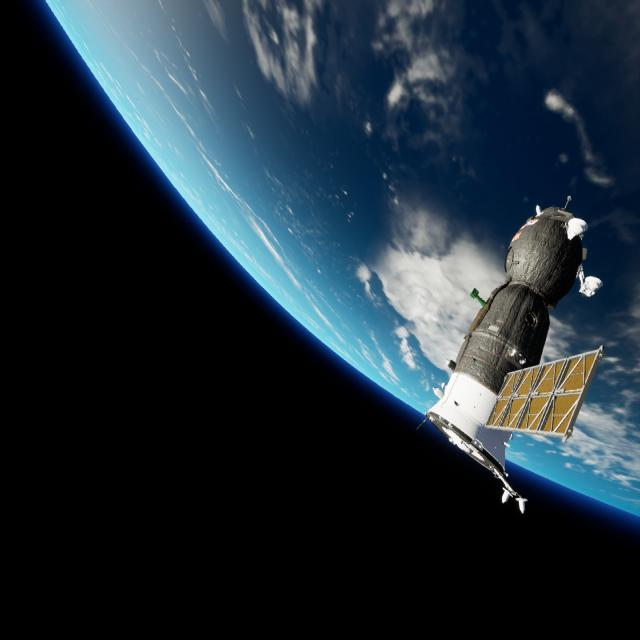Satellites revolving around earth: (418, 195, 606, 516)
